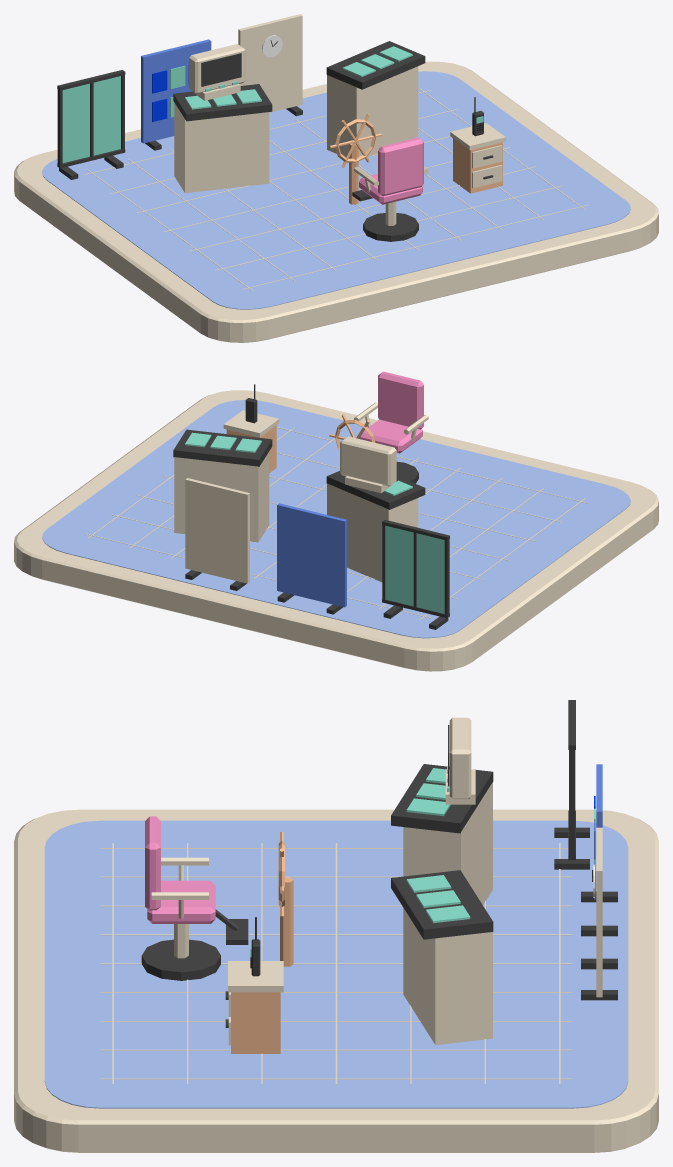
The model's file is room.fbx.
3 renders of one model, top to bottom at view 1: azimuth 30°, elevation 25°; view 2: azimuth 150°, elevation 25°; view 3: azimuth 270°, elevation 25°, orthographic. The views are drawn at different scales.
Parts seen in each view (by area): view 1: COM-02 Floor Surface, COM-01 Rounded Base Direct, Console, Console.001, Panel.003, Panel.002, Back, Forward blue glazing.001, Forward blue glazing, Panel.001, Panel, Housing (+10 smaller); view 2: COM-02 Floor Surface, COM-01 Rounded Base Direct, Panel.002, Panel.003, Console, Console.001, Housing, Back, Forward blue glazing.001, Forward blue glazing, Panel.001, Panel (+4 smaller); view 3: COM-02 Floor Surface, COM-01 Rounded Base Direct, Console.001, Console, Panel.001, Body, Panel, Base, Seat, Housing, Top, Back (+8 smaller).
Part boxes in pixels (bbox=[...]): COM-02 Floor Surface: bbox=[42, 71, 630, 309]; COM-01 Rounded Base Direct: bbox=[14, 61, 658, 342]; Console: bbox=[174, 103, 269, 193]; Console.001: bbox=[327, 66, 418, 161]; Panel.003: bbox=[238, 14, 302, 112]; Panel.002: bbox=[141, 39, 211, 143]; Back: bbox=[378, 137, 423, 196]; Forward blue glazing.001: bbox=[93, 76, 120, 155]; Forward blue glazing: bbox=[62, 83, 89, 162]; Panel.001: bbox=[326, 41, 425, 89]; Panel: bbox=[173, 84, 272, 121]; Housing: bbox=[189, 44, 245, 93]; COM-02 Floor Surface: bbox=[42, 400, 630, 638]; COM-01 Rounded Base Direct: bbox=[14, 390, 658, 671]; Panel.002: bbox=[277, 503, 346, 607]; Panel.003: bbox=[185, 478, 249, 583]; Console: bbox=[327, 483, 418, 582]; Console.001: bbox=[174, 451, 269, 542]; Housing: bbox=[340, 436, 396, 486]; Back: bbox=[378, 371, 423, 429]; Forward blue glazing.001: bbox=[385, 525, 413, 606]; Forward blue glazing: bbox=[416, 533, 444, 613]; Panel.001: bbox=[173, 429, 272, 466]; Panel: bbox=[326, 471, 425, 509]; COM-02 Floor Surface: bbox=[44, 820, 628, 1108]; COM-01 Rounded Base Direct: bbox=[14, 809, 658, 1152]; Console.001: bbox=[403, 908, 492, 1045]; Console: bbox=[403, 782, 492, 904]; Panel.001: bbox=[391, 870, 493, 939]; Body: bbox=[231, 992, 280, 1053]; Panel: bbox=[391, 764, 493, 833]; Base: bbox=[141, 939, 220, 980]; Seat: bbox=[147, 880, 215, 923]; Housing: bbox=[449, 717, 471, 799]; Top: bbox=[228, 961, 283, 992]; Back: bbox=[145, 816, 160, 910].
Bounding box in the file's own units: 600 × 188 × 520.
